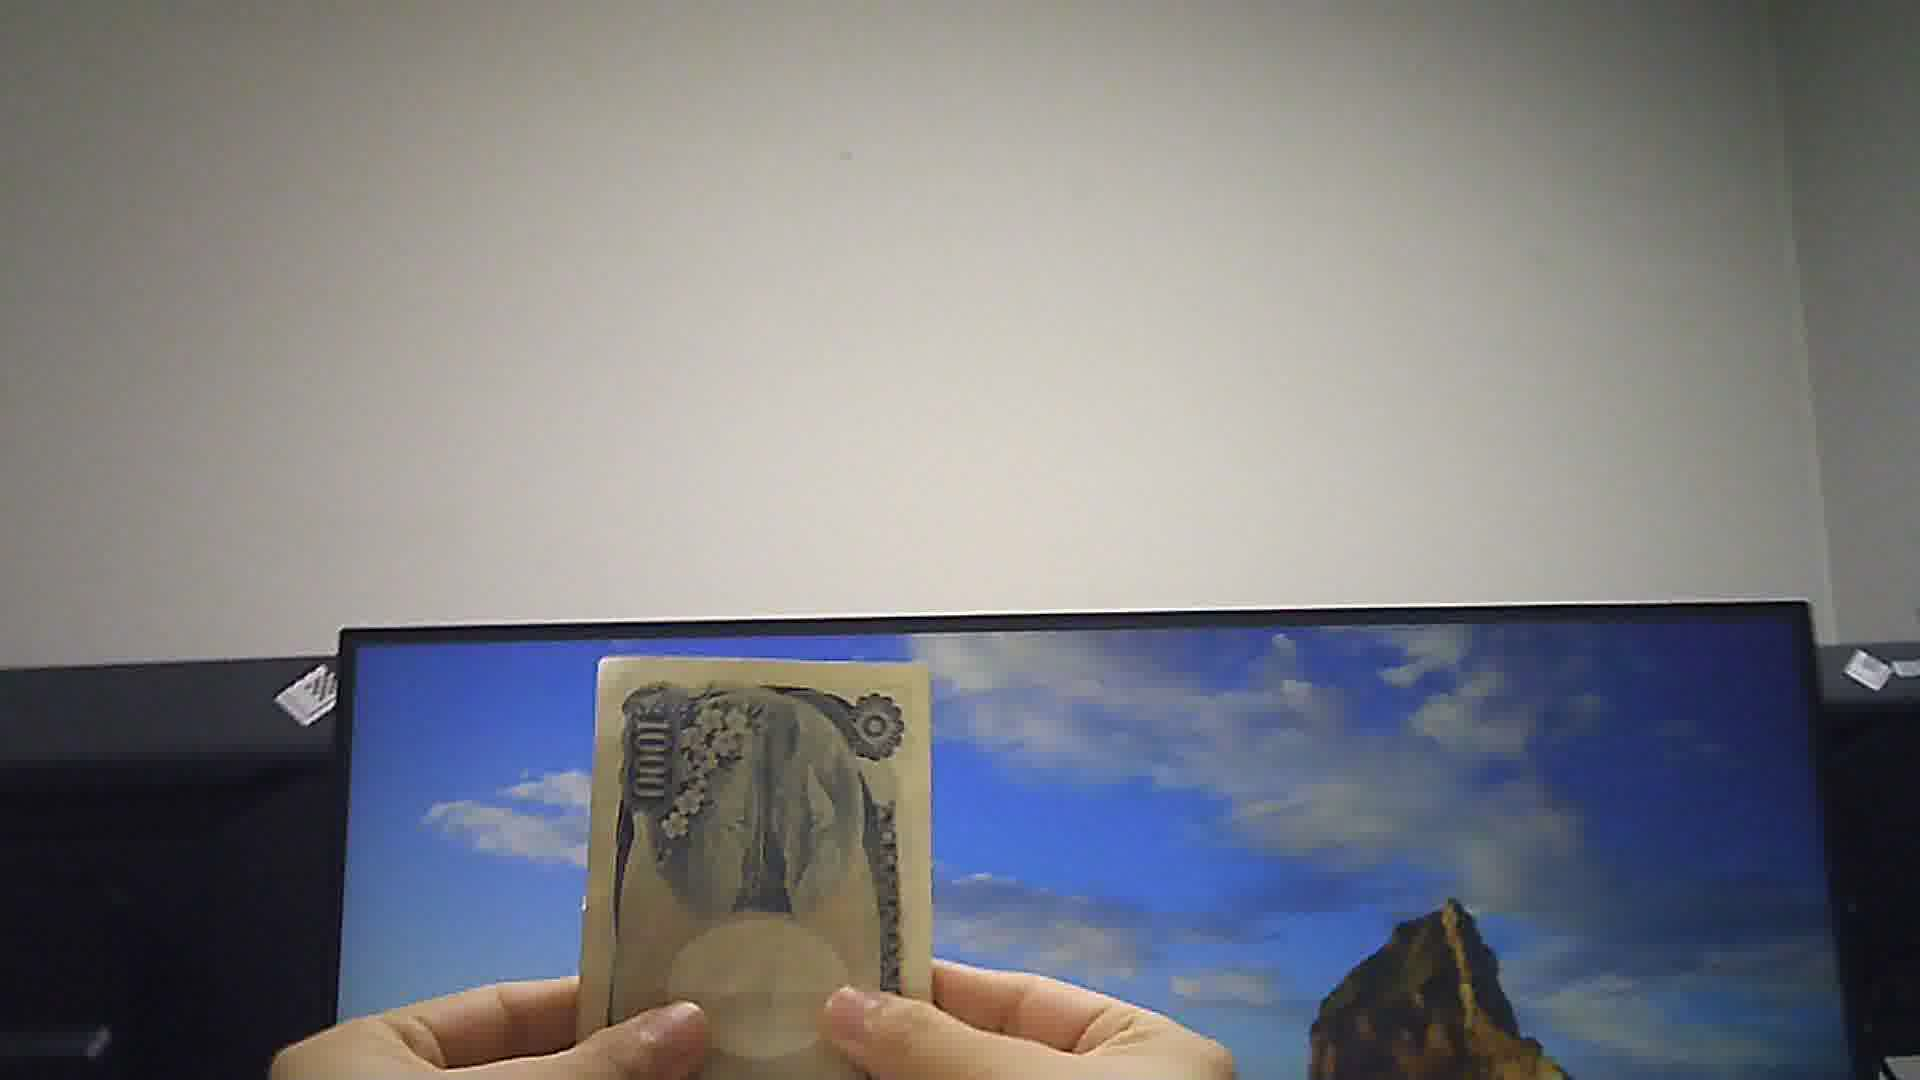1,000 Yen: (583, 646, 952, 1079)
